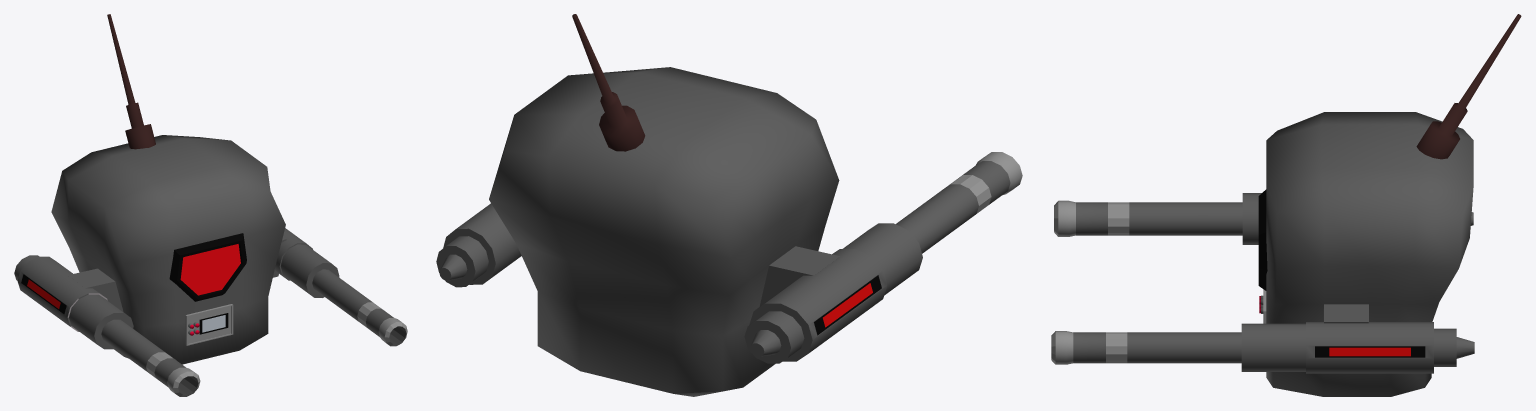
The model's file is Enemy2.fbx.
3 views of the same model, side by side, from view 1: azimuth 30°, elevation 25°; view 2: azimuth 150°, elevation 25°; view 3: azimuth 270°, elevation 25° (orthographic). The views are drawn at different scales.
Visible parts, largest first — view 1: Carcaça, ArmaDireita, ArmaEsquerda; view 2: Carcaça, ArmaDireita, ArmaEsquerda; view 3: Carcaça, ArmaEsquerda, ArmaDireita.
Boxes of the visible parts, x1=… form: Carcaça: x1=51, y1=14, x2=286, y2=364; ArmaDireita: x1=14, y1=255, x2=200, y2=396; ArmaEsquerda: x1=275, y1=228, x2=407, y2=346; Carcaça: x1=489, y1=14, x2=839, y2=396; ArmaDireita: x1=744, y1=152, x2=1022, y2=363; ArmaEsquerda: x1=436, y1=203, x2=521, y2=287; Carcaça: x1=1258, y1=14, x2=1521, y2=396; ArmaEsquerda: x1=1051, y1=322, x2=1474, y2=373; ArmaDireita: x1=1054, y1=193, x2=1473, y2=244.
Size of the model in its own units: 520 by 570 by 674.
